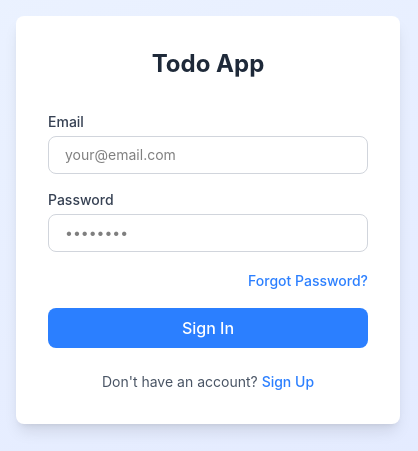
Test: AuthForm › should toggle to sign-up mode when clicking Sign Up link
This screenshot has width=418, height=451.
Click the button "Sign Up": (288, 382) [262,372,314,392]
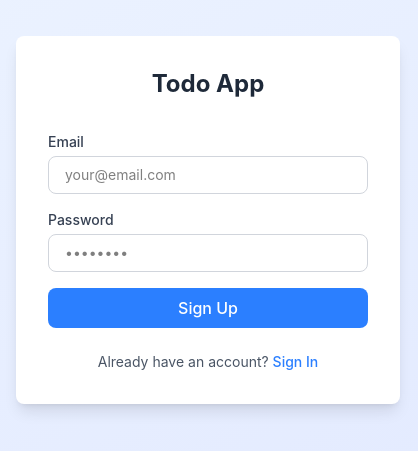
Now the button "Sign Up" is shown, box [48,288,368,328]
Now the text "Already have an account?" is shown, box [98,353,269,370]
Now the button "Forgot Password?" is gone
